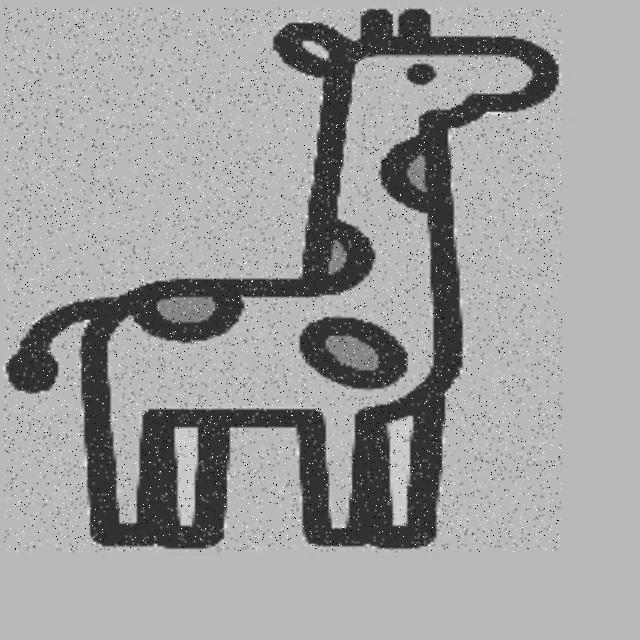girafe: (5, 9, 563, 553)
